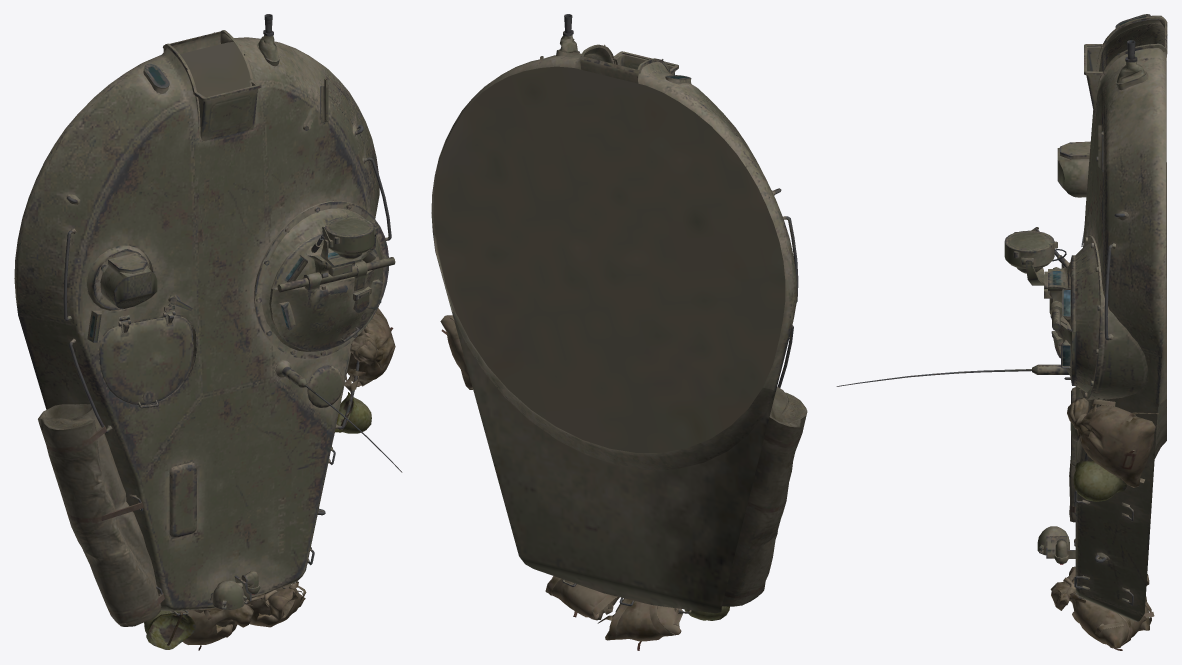
File: Turret_01.glb
3 renders of one model, left to right at view 1: azimuth 30°, elevation 25°; view 2: azimuth 150°, elevation 25°; view 3: azimuth 270°, elevation 25°, orthographic.
Parts seen in each view (by area): view 1: set_0_group_0; view 2: set_0_group_0; view 3: set_0_group_0.
Part boxes in pixels (bbox=[...]): set_0_group_0: bbox=[14, 14, 402, 650]; set_0_group_0: bbox=[431, 14, 807, 650]; set_0_group_0: bbox=[836, 14, 1167, 650].
Size of the model in its own units: 2.13 by 3.45 by 1.66.
Materials: 1 (1 with a texture image).
